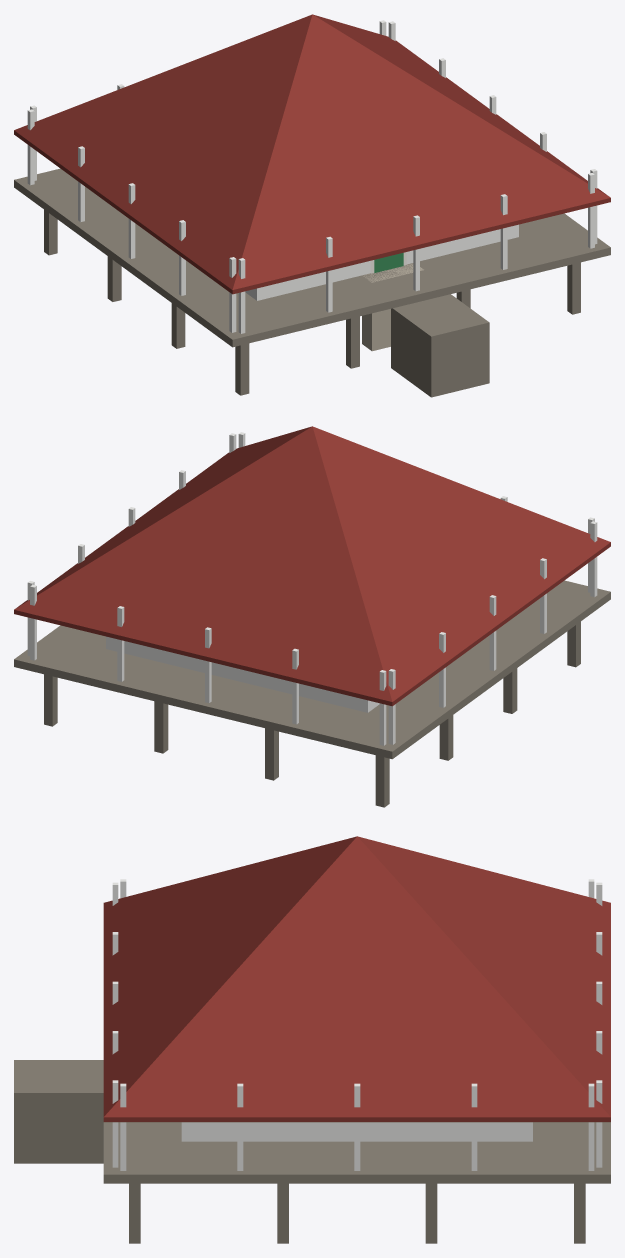
File: queenslander.glb
3 renders of one model, top to bottom at view 1: azimuth 30°, elevation 25°; view 2: azimuth 150°, elevation 25°; view 3: azimuth 270°, elevation 25°, orthographic. The views are drawn at different scales.
Parts seen in each view (by area): view 1: queenslander; view 2: queenslander; view 3: queenslander.
Boxes of the visible parts, <box> form: queenslander: <box>14,14,610,397</box>; queenslander: <box>14,426,610,807</box>; queenslander: <box>14,836,610,1243</box>.
Size of the model in its own units: 13 by 8.79 by 15.3.
1 material, 1 textured.
